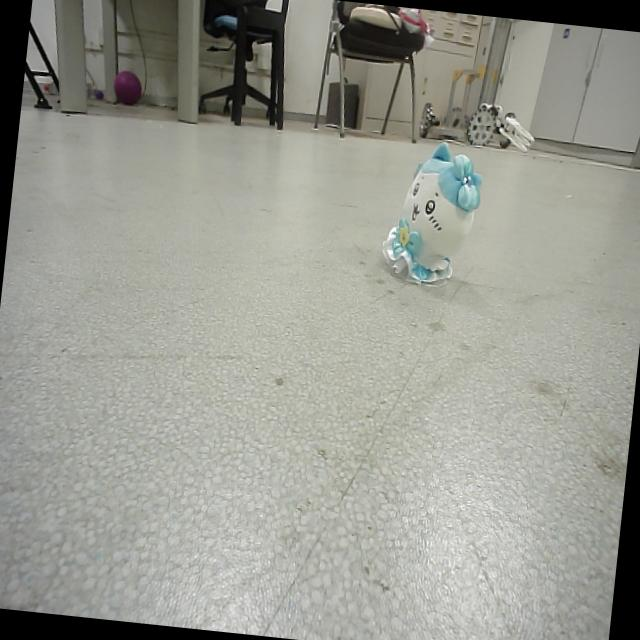xiaoba: (381, 136, 486, 290)
